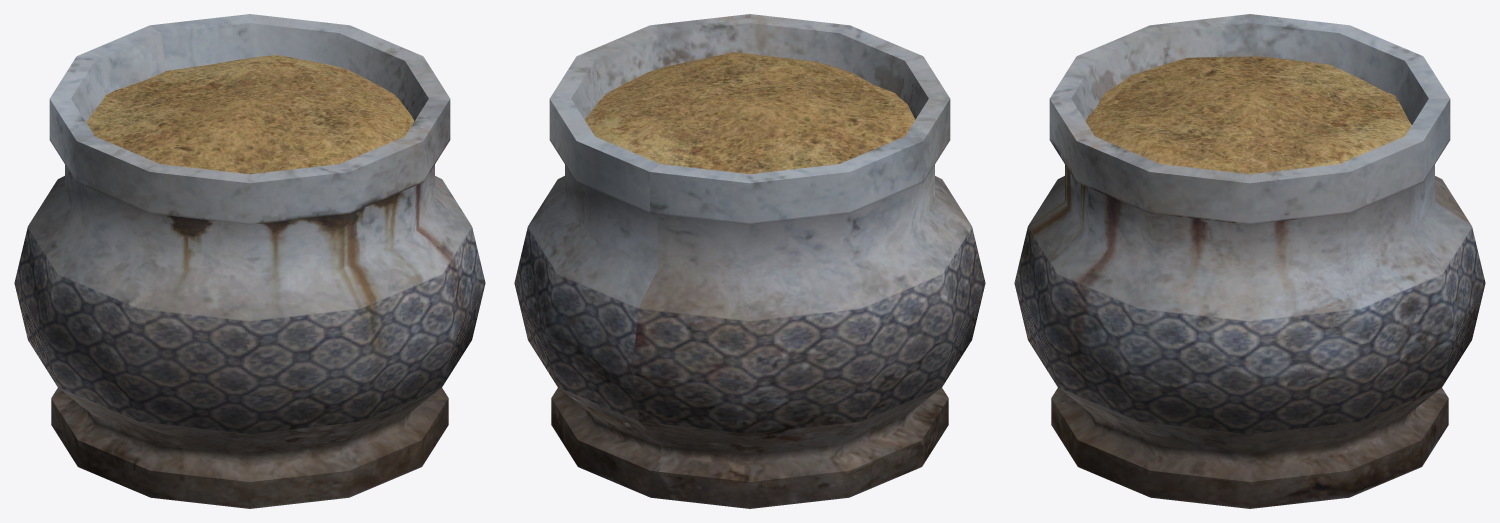
File: incensePot02.FBX
3 views of the same model, side by side, from view 1: azimuth 30°, elevation 25°; view 2: azimuth 150°, elevation 25°; view 3: azimuth 270°, elevation 25° (orthographic).
Parts seen in each view (by area): view 1: SM_IncensePot02; view 2: SM_IncensePot02; view 3: SM_IncensePot02.
Part boxes in pixels (x1=…): SM_IncensePot02: x1=14, y1=14, x2=485, y2=508; SM_IncensePot02: x1=514, y1=14, x2=985, y2=508; SM_IncensePot02: x1=1014, y1=14, x2=1485, y2=508.
Bounding box in the file's own units: 10.79 × 8.25 × 10.79.
2 materials, 2 textured.
